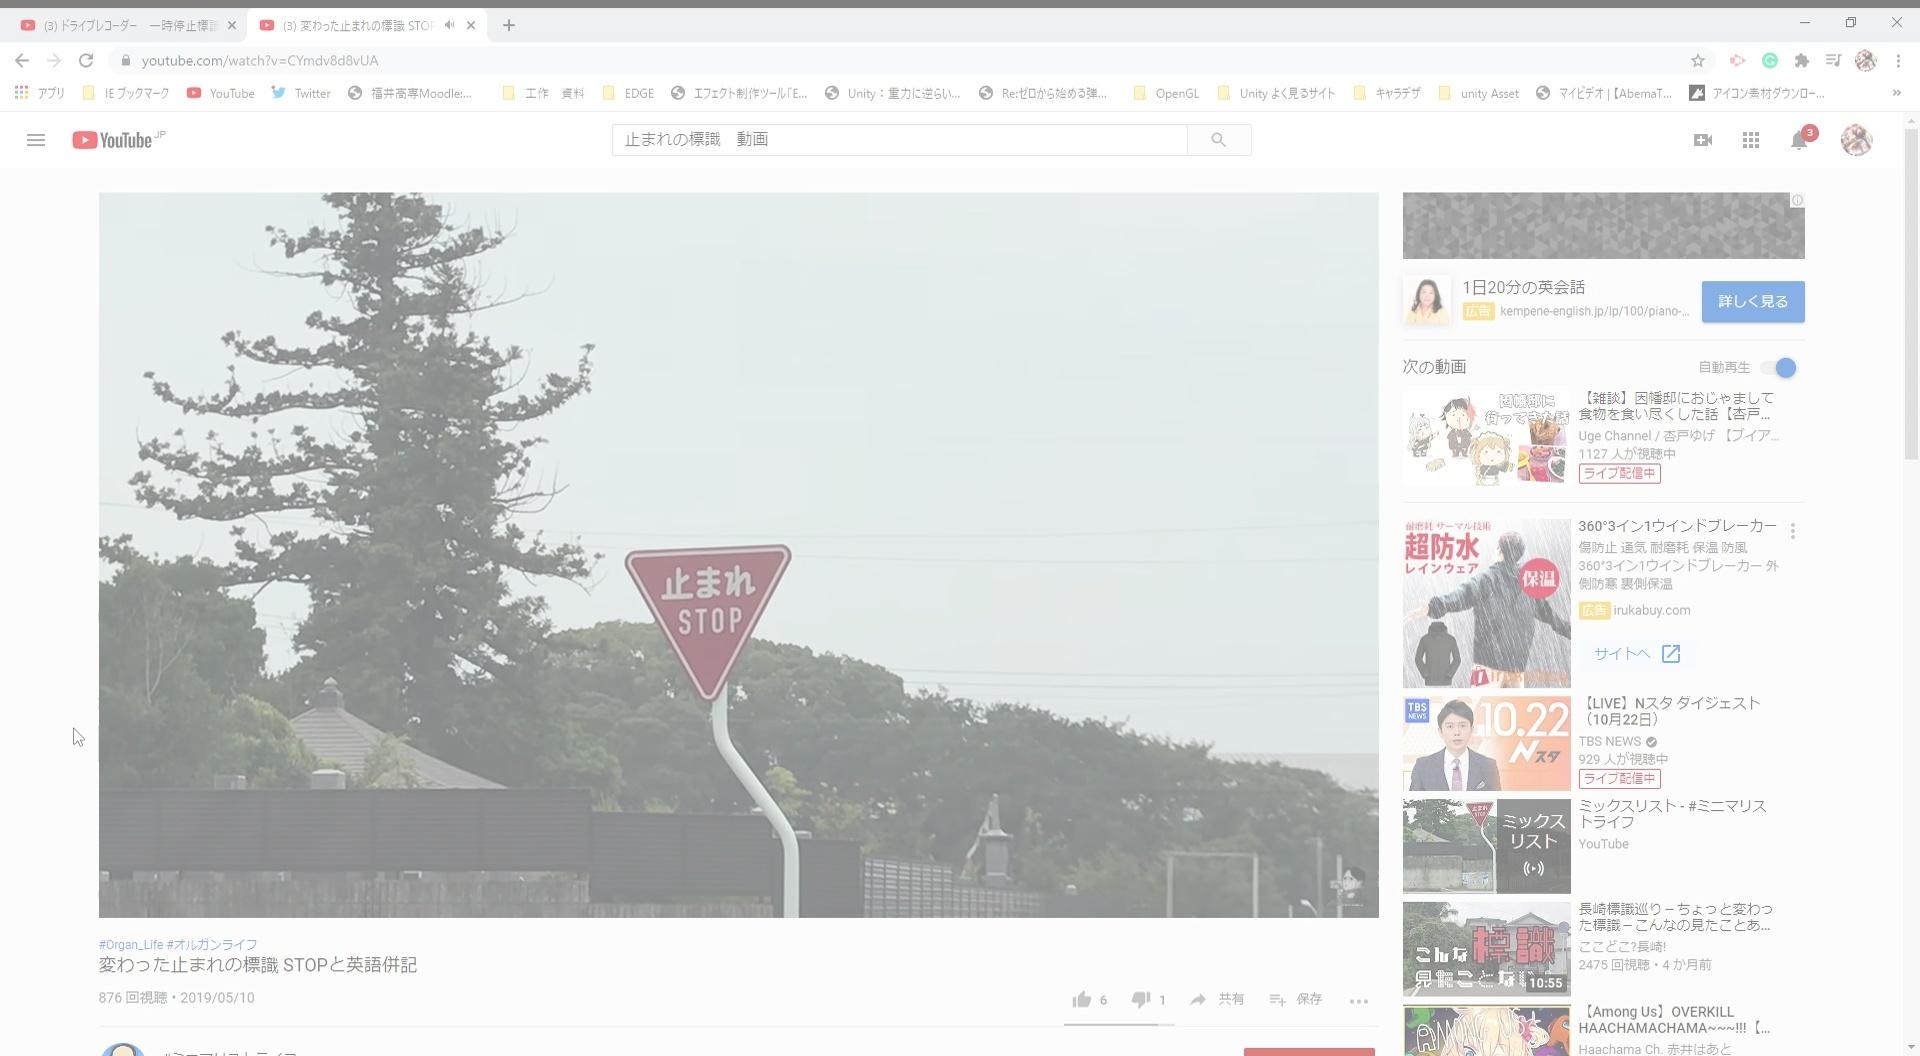Regulatory_sign_triangle: (614, 540, 802, 717)
